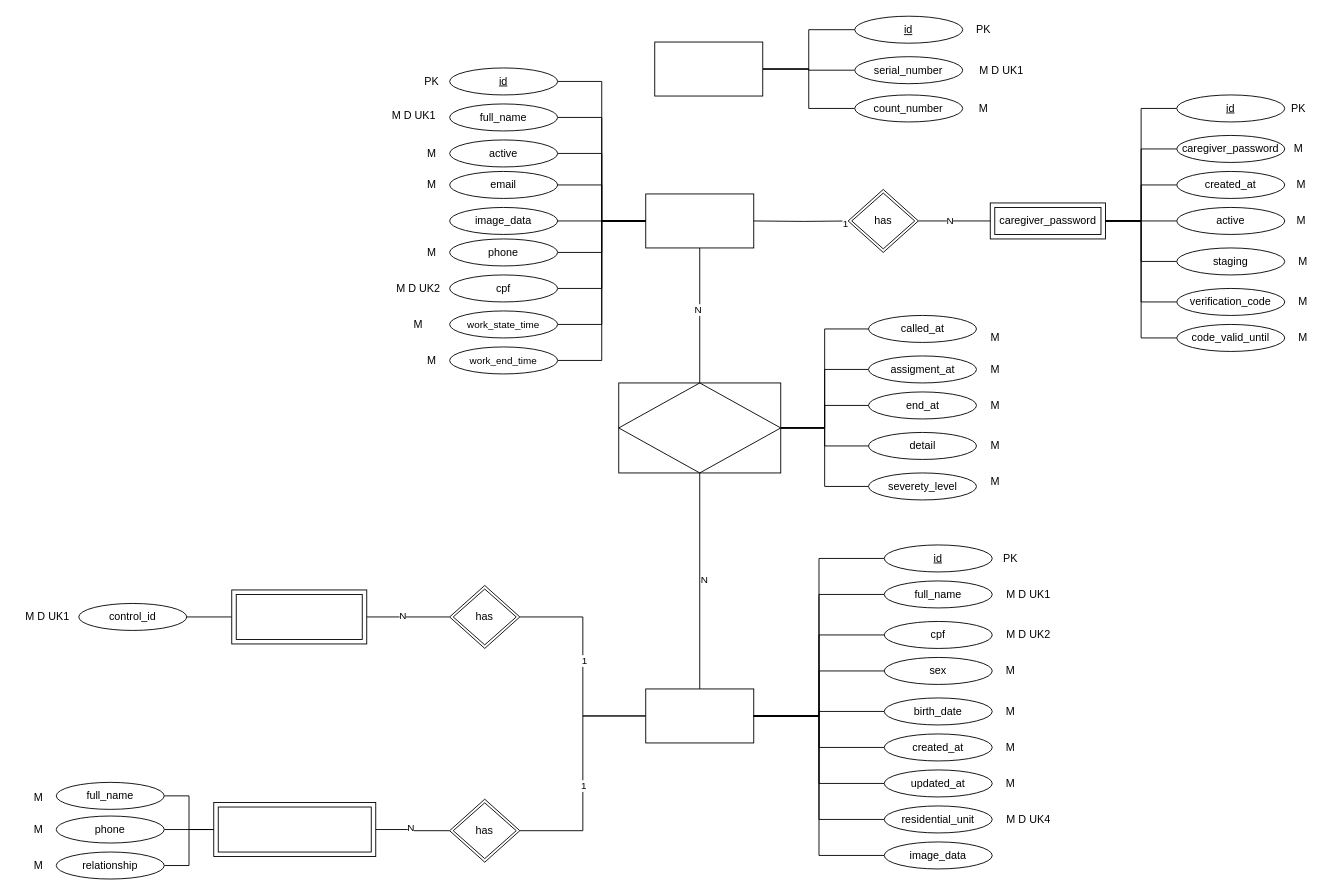
Some shapes in this 1331 by 895 pixel diagram are drawn without their labels. Each missing label, with the centre of its shape:
alarm: (708,68)
caregiver: (699,220)
caregiver_assigment_resident: (699,427)
control_resident: (299,616)
resident: (699,715)
resident_emergency_contact: (294,829)
